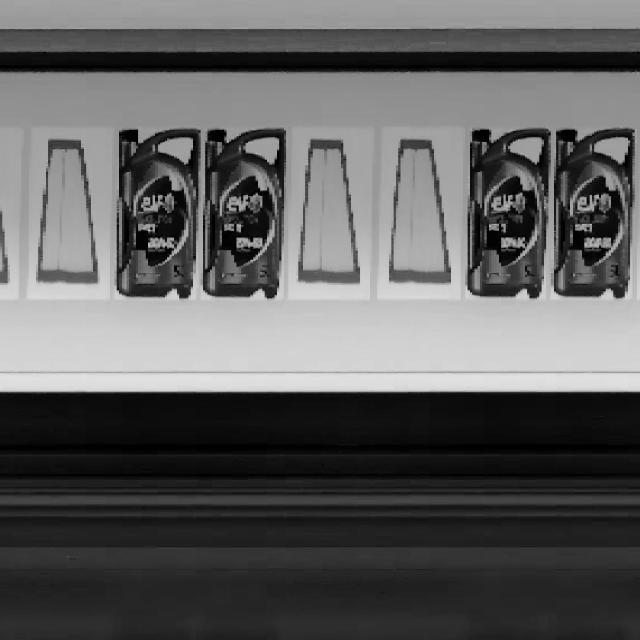air_filter: (382, 136, 457, 291), (293, 133, 362, 287), (35, 136, 101, 291)
motor_oil: (551, 123, 638, 306), (112, 124, 201, 302), (202, 125, 288, 302), (468, 126, 550, 301)
